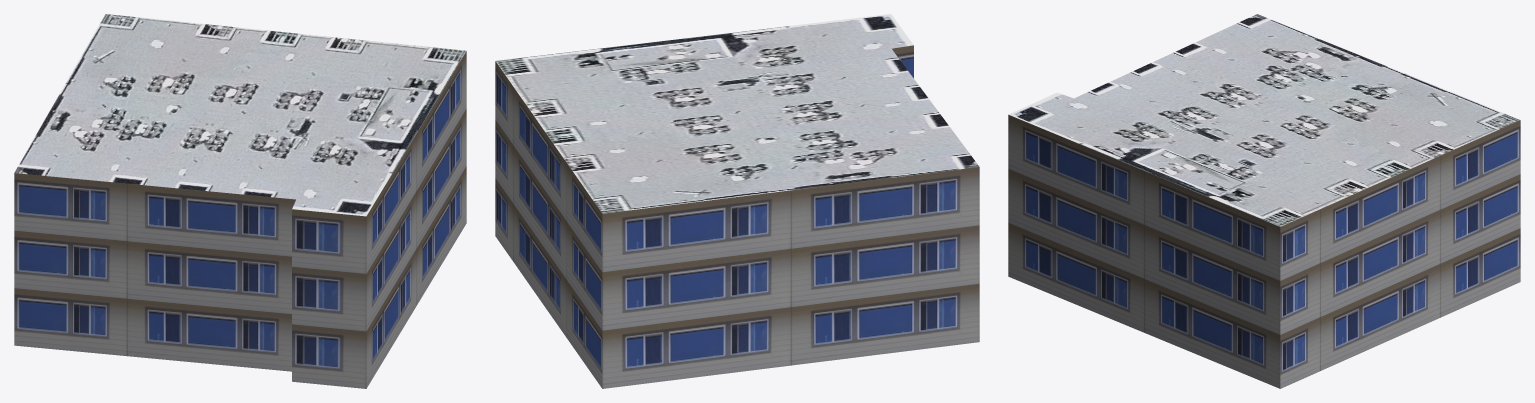
The model's file is ResTex__1803.fbx.
3 views of the same model, side by side, from view 1: azimuth 30°, elevation 25°; view 2: azimuth 150°, elevation 25°; view 3: azimuth 270°, elevation 25° (orthographic). The views are drawn at different scales.
Visible parts, largest first — view 1: CityEngineMaterial_23_m, CityEngineMaterial_4_m; view 2: CityEngineMaterial_23_m, CityEngineMaterial_4_m; view 3: CityEngineMaterial_23_m, CityEngineMaterial_4_m.
Part boxes in pixels (x1,y1,x2,y2): CityEngineMaterial_23_m: (14,51,466,388); CityEngineMaterial_4_m: (14,14,466,216); CityEngineMaterial_23_m: (495,45,979,388); CityEngineMaterial_4_m: (495,14,979,213); CityEngineMaterial_23_m: (1008,114,1520,388); CityEngineMaterial_4_m: (1009,14,1519,226).
Size of the model in its own units: 25.37 by 9 by 25.78.
2 materials, 2 textured.
